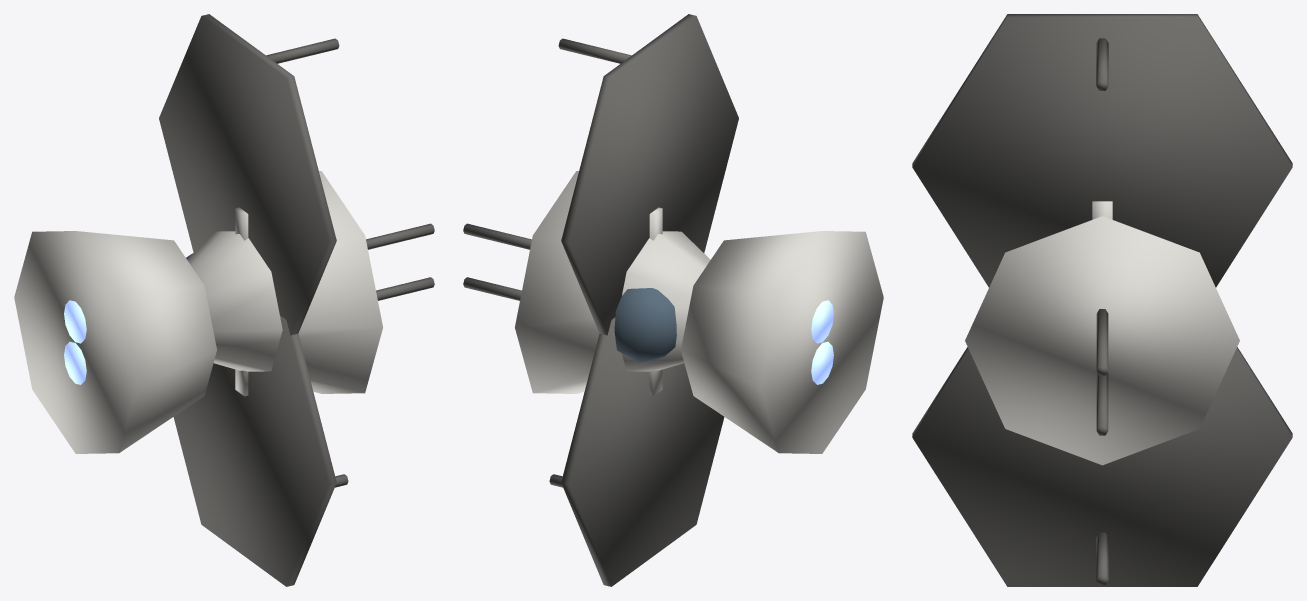
Rendered from enemy-ship-3.glb.
3 views of the same model, side by side, from view 1: azimuth 30°, elevation 25°; view 2: azimuth 150°, elevation 25°; view 3: azimuth 270°, elevation 25° (orthographic). The views are drawn at different scales.
Visible parts, largest first — view 1: Starfighter; view 2: Starfighter; view 3: Starfighter.
Boxes of the visible parts, x1,y1,x2,y2 form: Starfighter: (14,14,434,586); Starfighter: (463,14,883,586); Starfighter: (912,14,1292,586).
Bounding box in the file's own units: 1.1 × 1.5 × 0.909.
